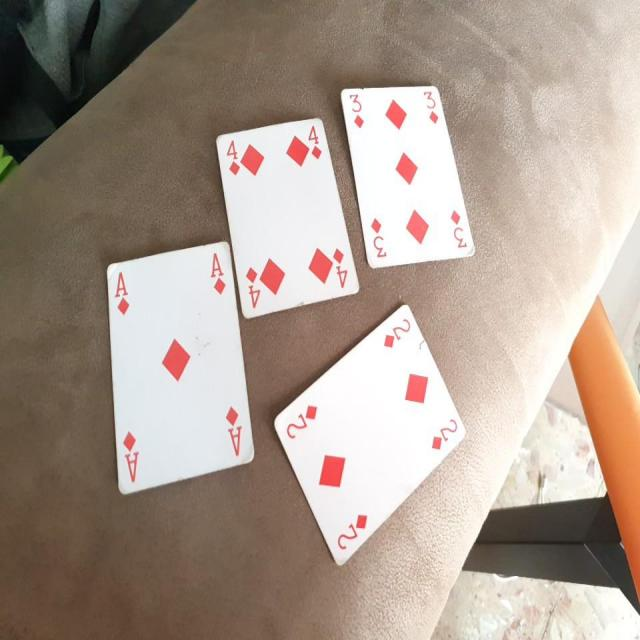2 Diamonds: (269, 306, 468, 573)
3 Diamonds: (338, 77, 480, 274)
4 Diamonds: (211, 114, 362, 323)
A Diamonds: (104, 234, 258, 508)
